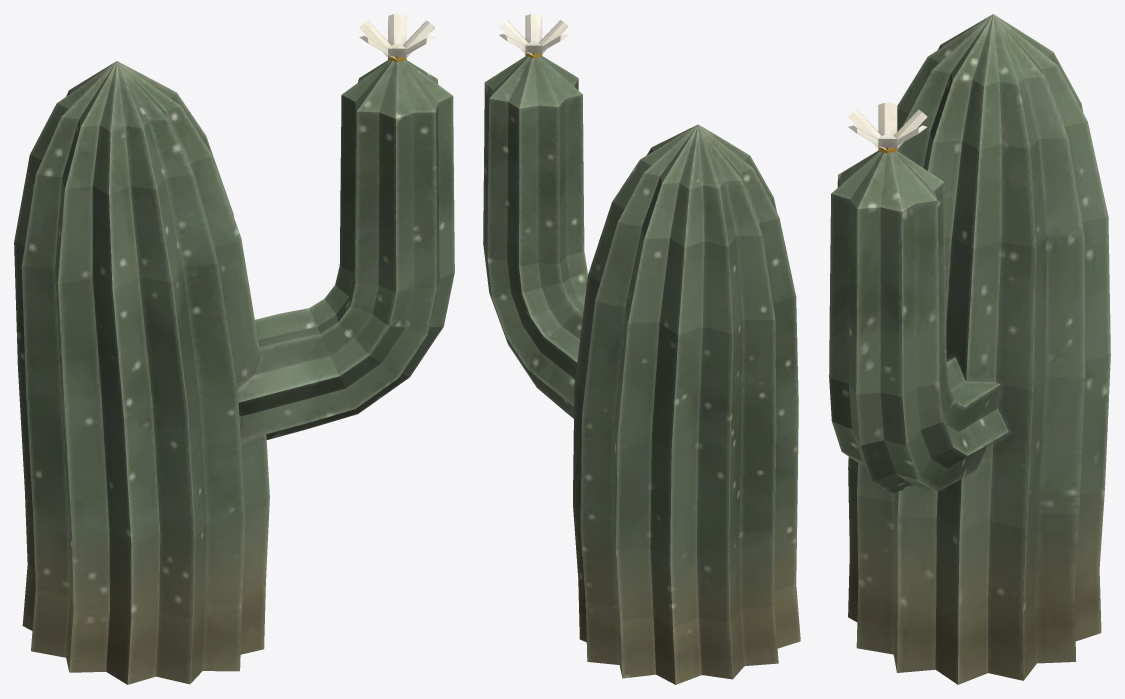
File: cactus_2.glb
3 renders of one model, left to right at view 1: azimuth 30°, elevation 25°; view 2: azimuth 150°, elevation 25°; view 3: azimuth 270°, elevation 25°, orthographic. The views are drawn at different scales.
Parts seen in each view (by area): view 1: Static_Mesh; view 2: Static_Mesh; view 3: Static_Mesh.
Part boxes in pixels (x1=…): Static_Mesh: x1=14, y1=14, x2=454, y2=684; Static_Mesh: x1=483, y1=14, x2=800, y2=684; Static_Mesh: x1=829, y1=14, x2=1110, y2=684.
Bounding box in the file's own units: 1.22 × 1.88 × 0.7715.
Materials: 1 (1 with a texture image).
